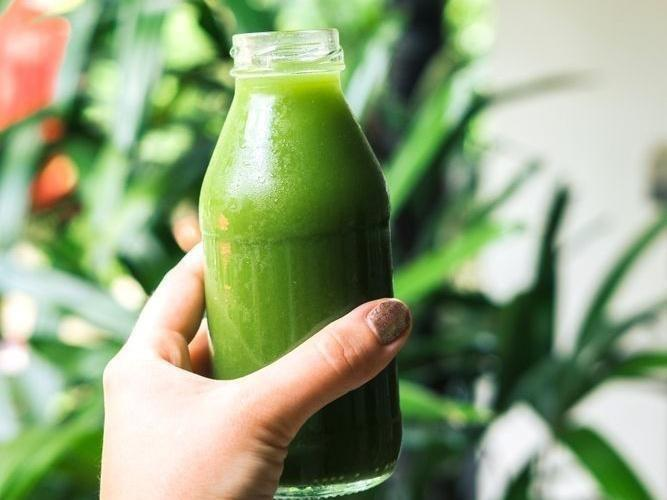bottle-glass: (195, 25, 405, 496)
